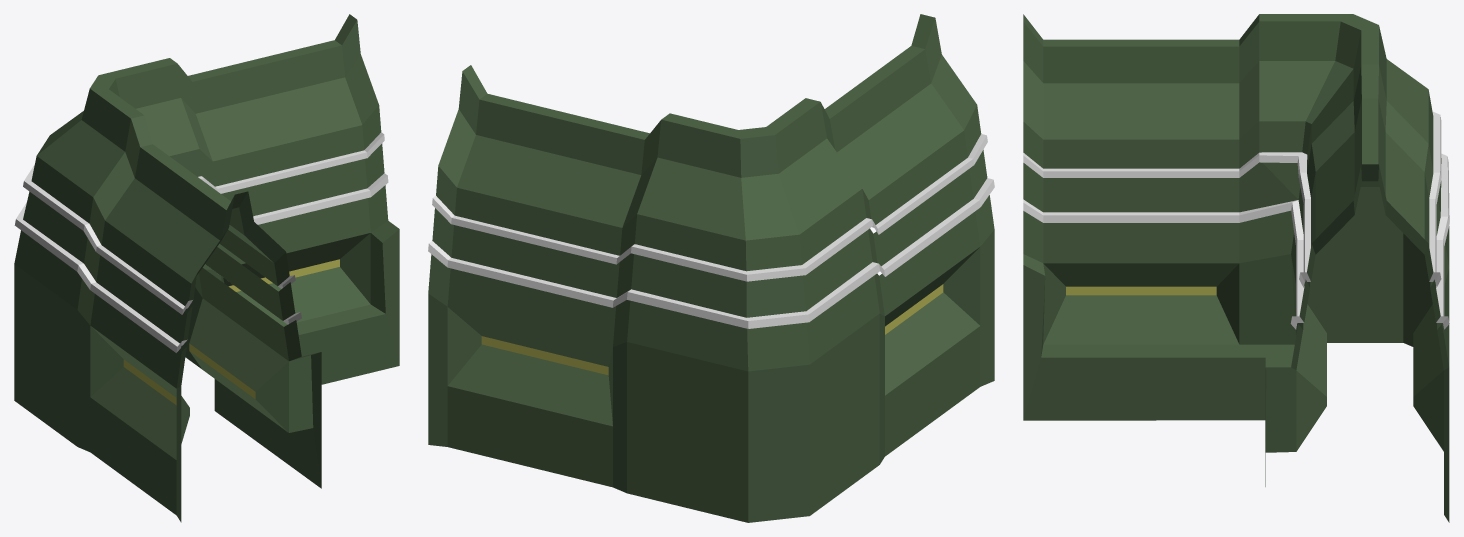
The model's file is Wand_Ecke1.fbx.
The picture shows the model from 3 angles, left to right: view 1: azimuth 30°, elevation 25°; view 2: azimuth 150°, elevation 25°; view 3: azimuth 270°, elevation 25°; orthographic projection. The views are drawn at different scales.
Visible parts, largest first — view 1: Wand_Ecke1; view 2: Wand_Ecke1; view 3: Wand_Ecke1.
Part boxes in pixels (bbox=[...]): Wand_Ecke1: bbox=[14, 14, 399, 522]; Wand_Ecke1: bbox=[428, 14, 994, 522]; Wand_Ecke1: bbox=[1023, 14, 1449, 522].
Size of the model in its own units: 145 by 134 by 145.
